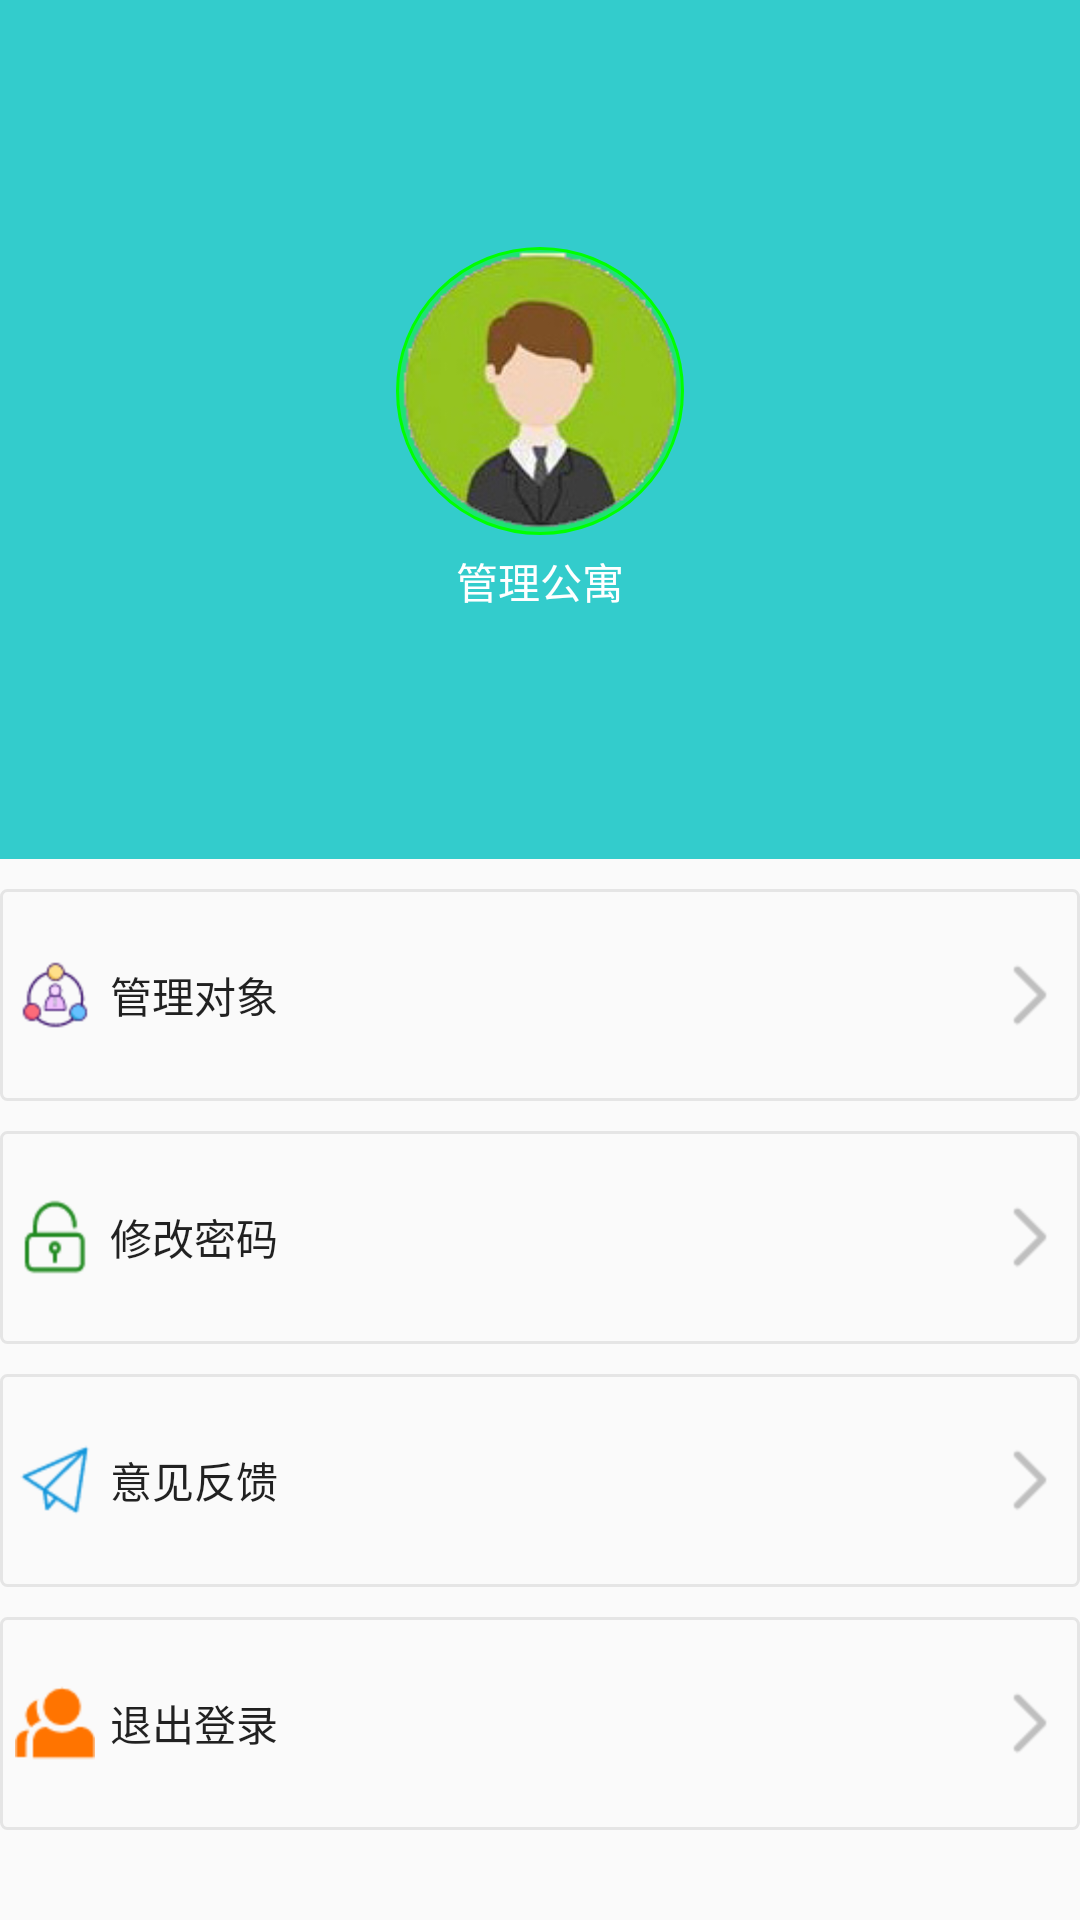

Point at icon controls on the screen. Image size 1080x1920, points as [x,y].
portrait: [540,391]
